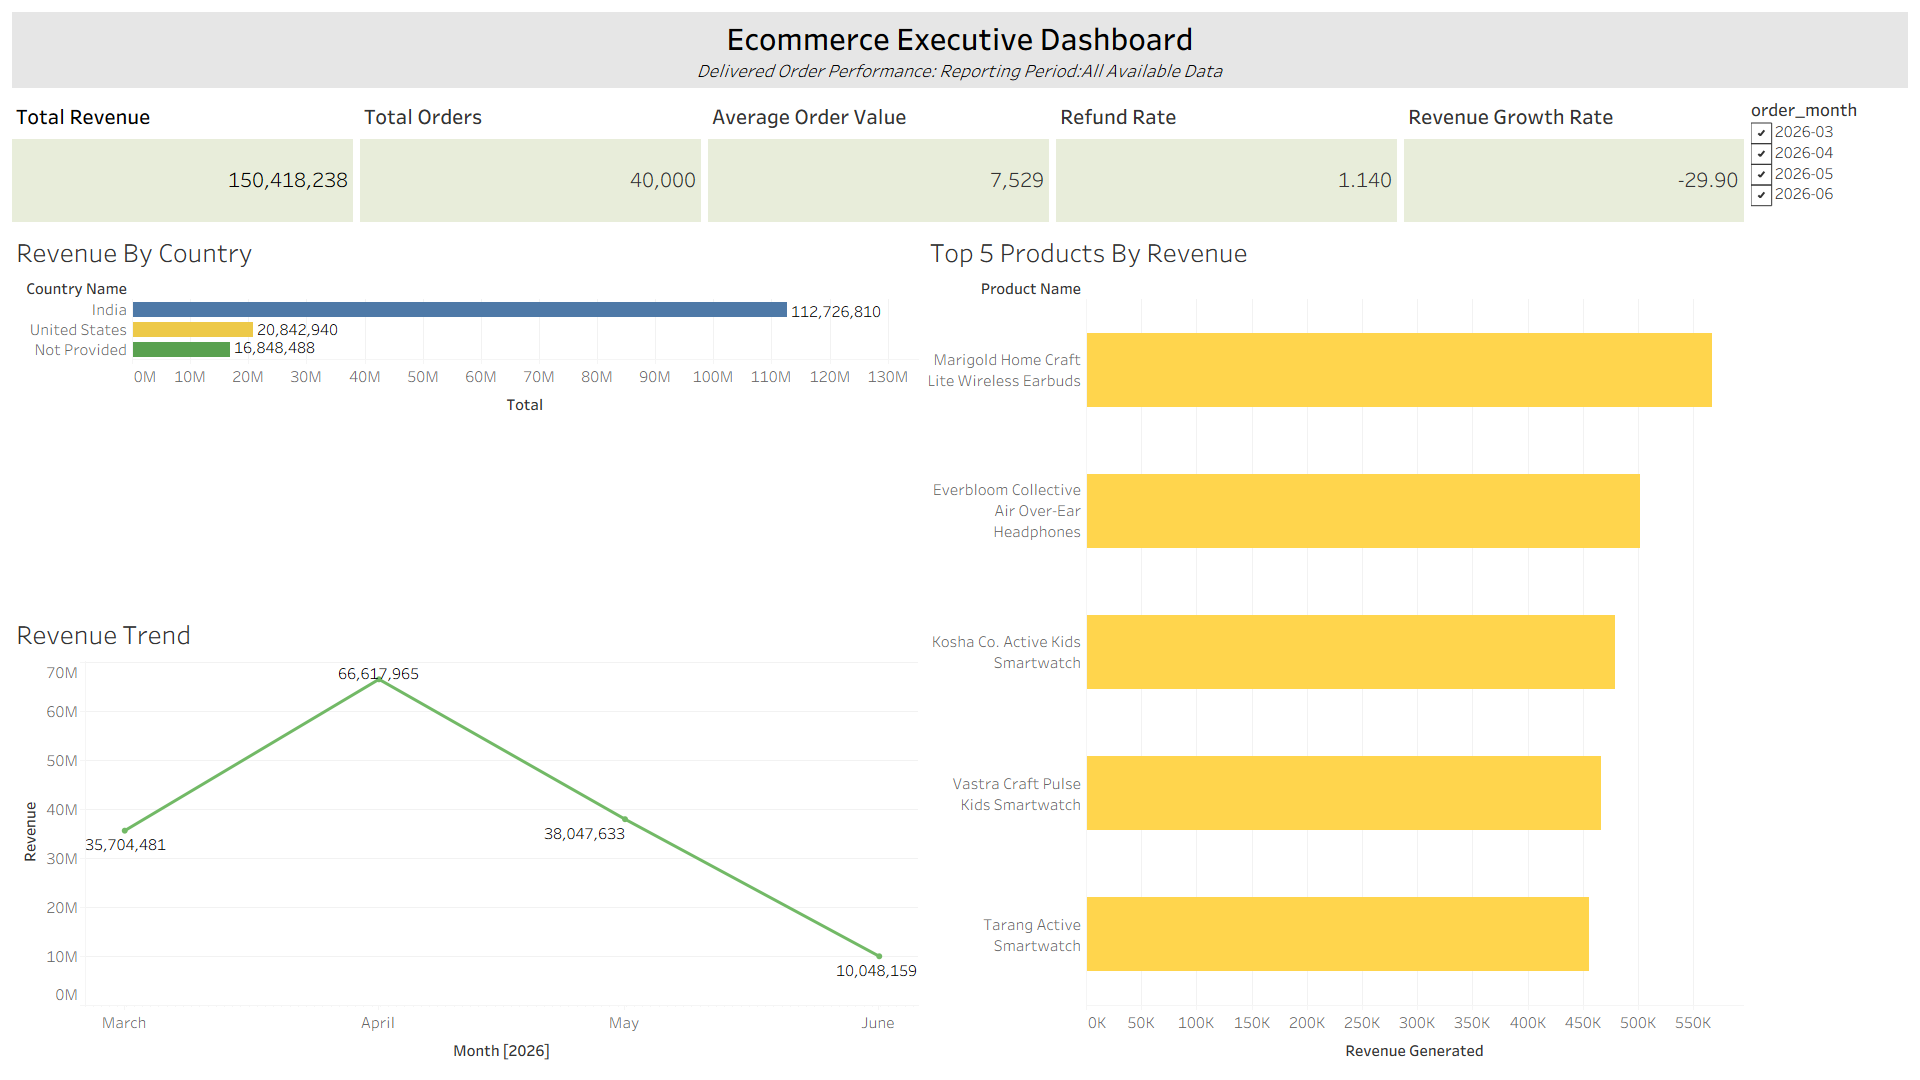

The page's visual inventory and layout, read from the dashboard file:
{"tool":"tableau","page":{"name":"Ecommerce Executive Dashboard","canvas":[1000,1000],"units":"permille","ordinal":0},"visuals":[{"type":"title","box":[6.8,11.9,986.4,125.4]},{"type":"worksheet","title":"Total Revenue","mark":"Automatic","box":[6.8,137.3,169.9,114.9]},{"type":"worksheet","title":"Total Orders","mark":"Automatic","box":[176.7,137.3,169.1,114.9]},{"type":"worksheet","title":"Average Order Value","mark":"Automatic","box":[345.8,137.3,169.1,114.9]},{"type":"worksheet","title":"Refund Rate ","mark":"Automatic","box":[514.9,137.3,169.1,114.9]},{"type":"worksheet","title":"Revenue Growth Rate ","mark":"Automatic","box":[683.9,137.3,169.1,114.9]},{"type":"filter","title":"Revenue By Country","param":"[federated.1llm6sq0i69syu15uj6xx1oiqp3i].[none:Calculation_1967912267108355:nk]","box":[853,137.3,140.2,191]},{"type":"worksheet","title":"Revenue By Country","mark":"Automatic","rows":["Calculation_1967912267108355"],"cols":["total"],"box":[6.8,252.7,444.7,332.1]},{"type":"worksheet","title":"Top 5 Products By Revenue ","mark":"Automatic","rows":["product_name"],"cols":["revenue_generated"],"box":[451.5,252.7,401.5,735.4]},{"type":"filter","title":"Revenue Growth Rate ","param":"[federated.1llm6sq0i69syu15uj6xx1oiqp3i].[none:order_month:nk]","box":[853,328.4,140.2,229.8]},{"type":"worksheet","title":"Revenue Trend","mark":"Automatic","rows":["total"],"cols":["created_at"],"box":[6.8,584.8,444.7,403.3]}]}

Visuals, with their boxes on the dashboard's canvas, which has no fixed pixel size, in thousandths of its width and height (x1, y1, x2, y2). These are canvas units, not pixel positions in the 1920x1080 screenshot, which may show the page scaled, cropped or inside an application window:
title: pyautogui.locateOnScreen(7, 12, 993, 137)
"Total Revenue" worksheet: pyautogui.locateOnScreen(7, 137, 177, 252)
"Total Orders" worksheet: pyautogui.locateOnScreen(177, 137, 346, 252)
"Average Order Value" worksheet: pyautogui.locateOnScreen(346, 137, 515, 252)
"Refund Rate " worksheet: pyautogui.locateOnScreen(515, 137, 684, 252)
"Revenue Growth Rate " worksheet: pyautogui.locateOnScreen(684, 137, 853, 252)
"Revenue By Country" filter: pyautogui.locateOnScreen(853, 137, 993, 328)
"Revenue By Country" worksheet: pyautogui.locateOnScreen(7, 253, 452, 585)
"Top 5 Products By Revenue " worksheet: pyautogui.locateOnScreen(452, 253, 853, 988)
"Revenue Growth Rate " filter: pyautogui.locateOnScreen(853, 328, 993, 558)
"Revenue Trend" worksheet: pyautogui.locateOnScreen(7, 585, 452, 988)
